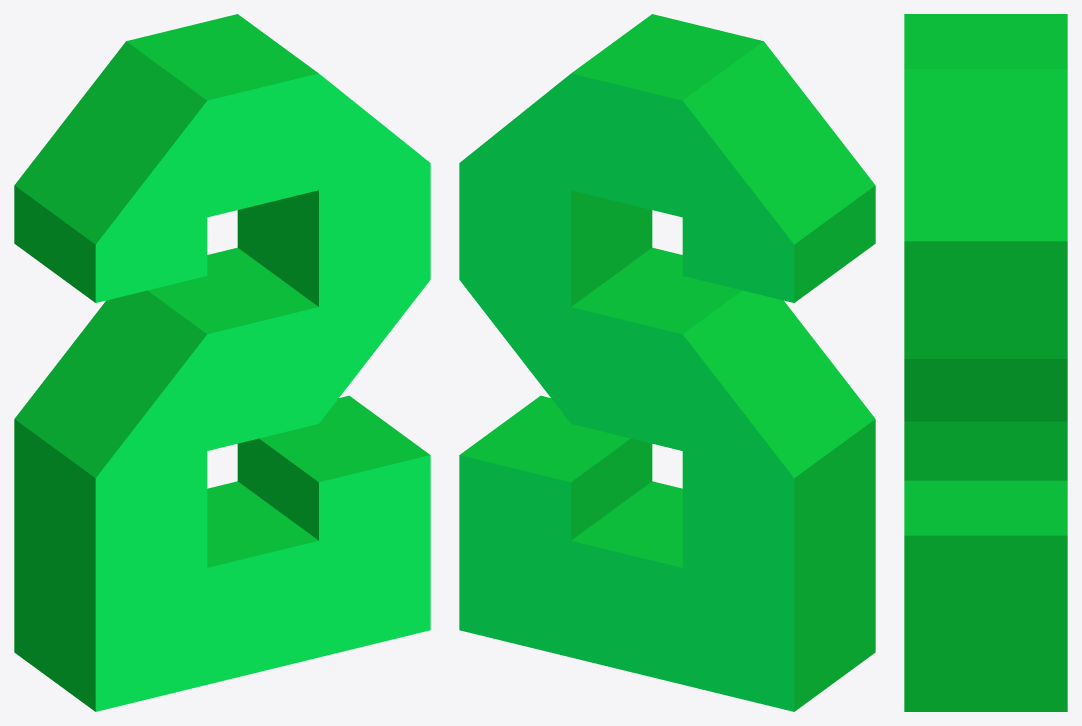
The model's file is 4f5d4cce-0868-488c-9096-d27ad5541661.glb.
3 renders of one model, left to right at view 1: azimuth 30°, elevation 25°; view 2: azimuth 150°, elevation 25°; view 3: azimuth 270°, elevation 25°, orthographic.
Parts seen in each view (by area): view 1: 2_DeltaBlock_Green; view 2: 2_DeltaBlock_Green; view 3: 2_DeltaBlock_Green.
Boxes of the visible parts, x1=… form: 2_DeltaBlock_Green: x1=14, y1=14, x2=430, y2=711; 2_DeltaBlock_Green: x1=459, y1=14, x2=875, y2=711; 2_DeltaBlock_Green: x1=904, y1=14, x2=1067, y2=711.
Size of what is drawn, in the model's own units: 0.1071 by 0.1786 by 0.045.
Materials: 2 (2 with a texture image).
